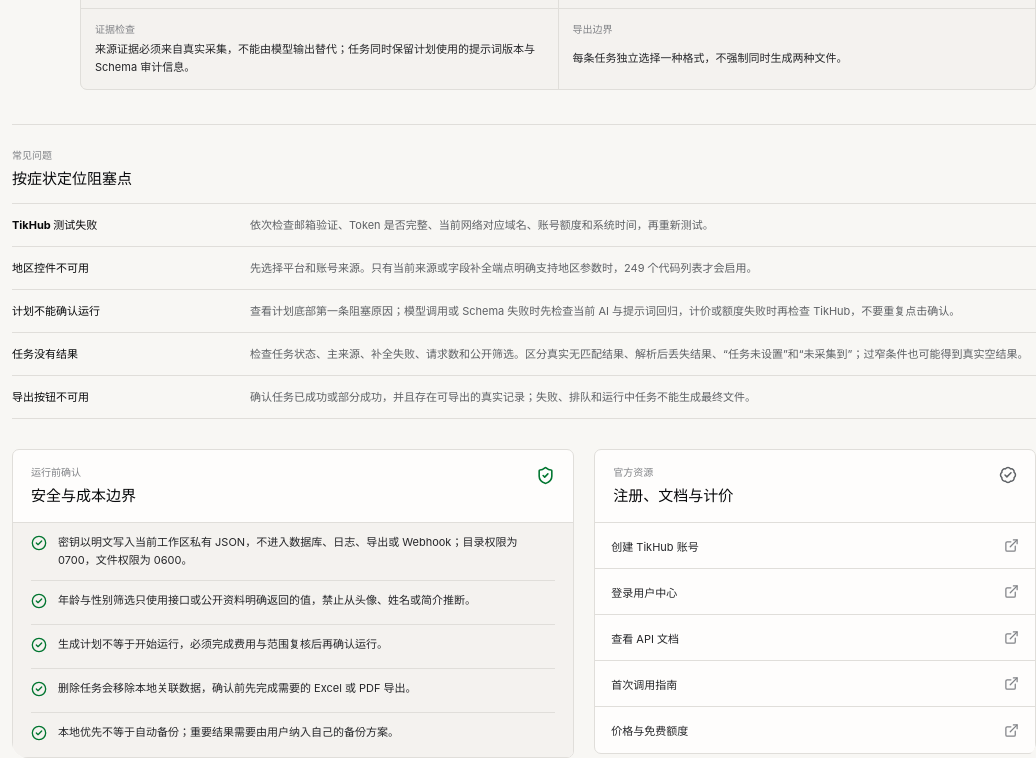
Test: GuidePage › Tauri 无法打开官方资源时显示可见错误反馈
The image size is (1036, 758).
(page scrolled)
Click the link to "https://docs.tikhub.io/" at (645, 639), box [595, 615, 1035, 661]
(page scrolled)
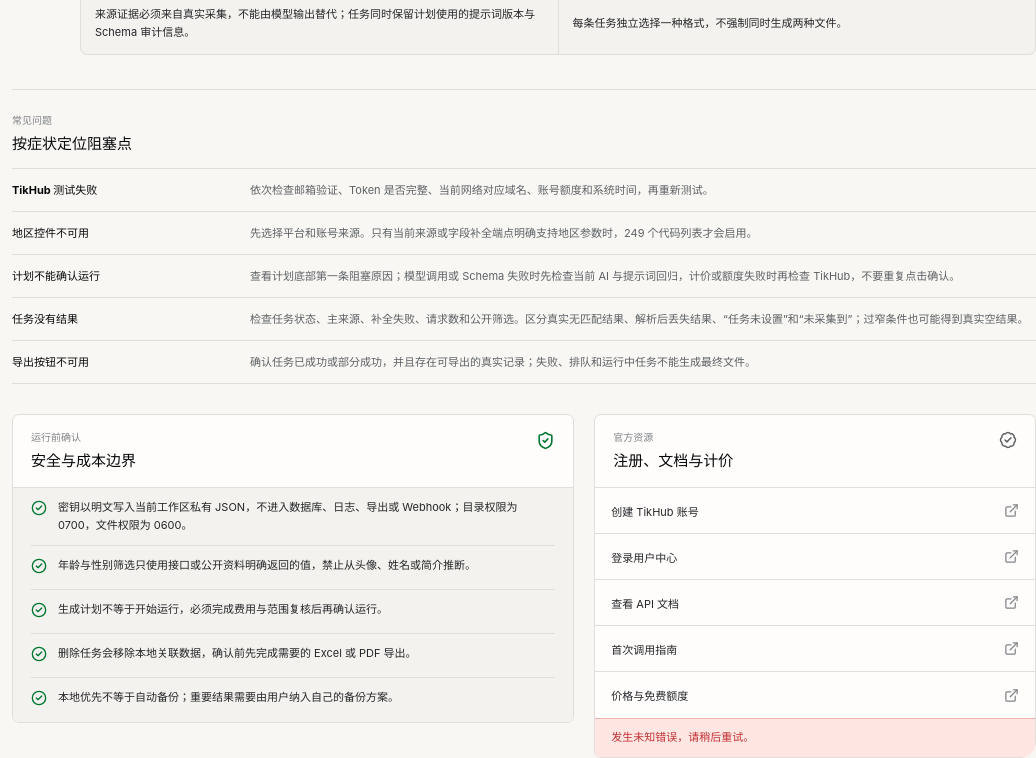
expect the message "发生未知错误，请稍后重试。" is shown: met, box [595, 718, 1035, 757]
